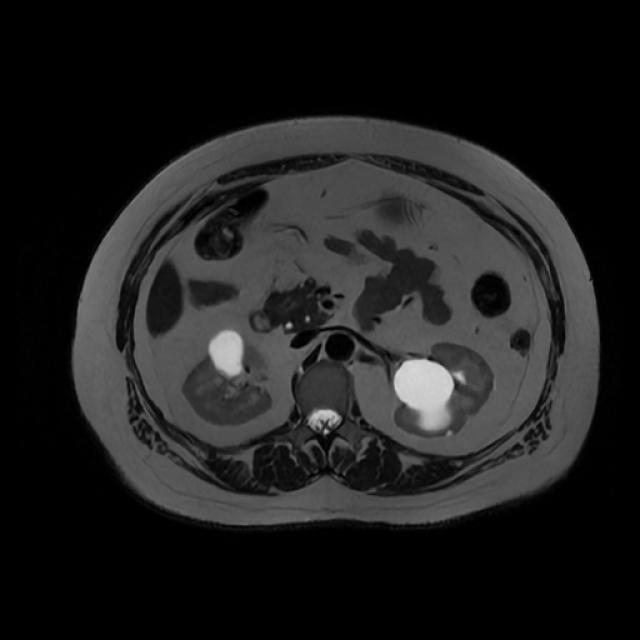sag: (182, 327, 276, 426)
sol: (391, 339, 495, 438)
